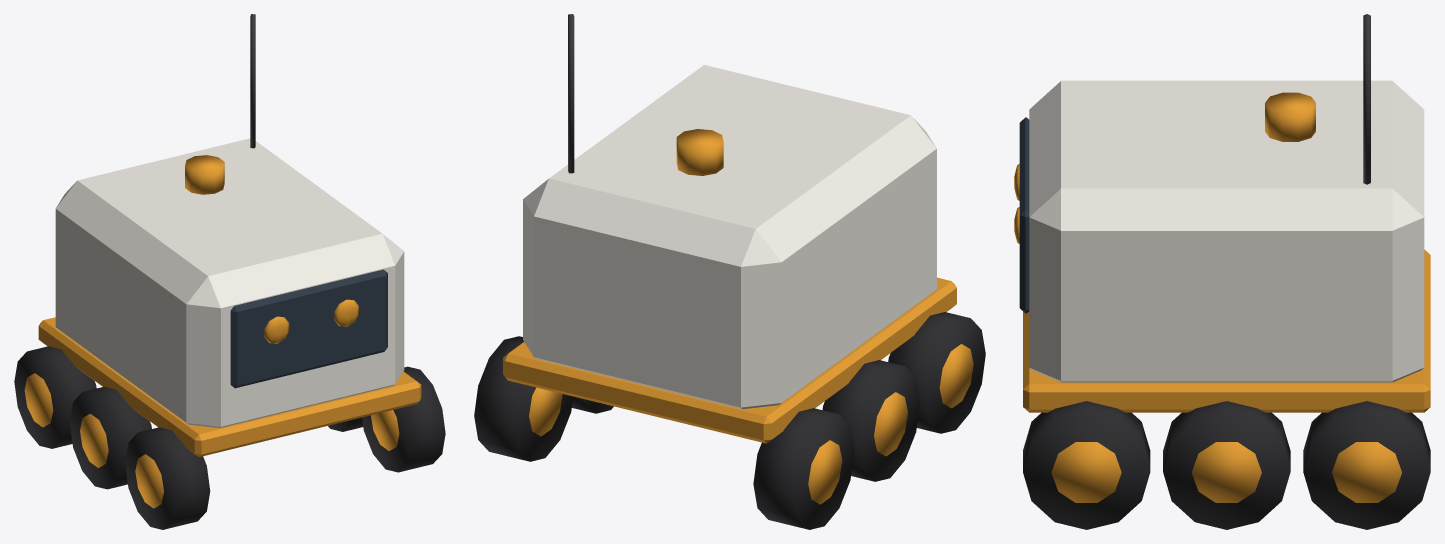
File: era5_delivery_robot.glb
3 renders of one model, left to right at view 1: azimuth 30°, elevation 25°; view 2: azimuth 150°, elevation 25°; view 3: azimuth 270°, elevation 25°, orthographic. The views are drawn at different scales.
Parts seen in each view (by area): view 1: prop_delivery_robot; view 2: prop_delivery_robot; view 3: prop_delivery_robot.
Part boxes in pixels (<box>): prop_delivery_robot: <box>14,14,445,529</box>; prop_delivery_robot: <box>474,14,985,529</box>; prop_delivery_robot: <box>1014,14,1430,529</box>.
Size of the model in its own units: 0.625 by 0.83 by 0.6536.
